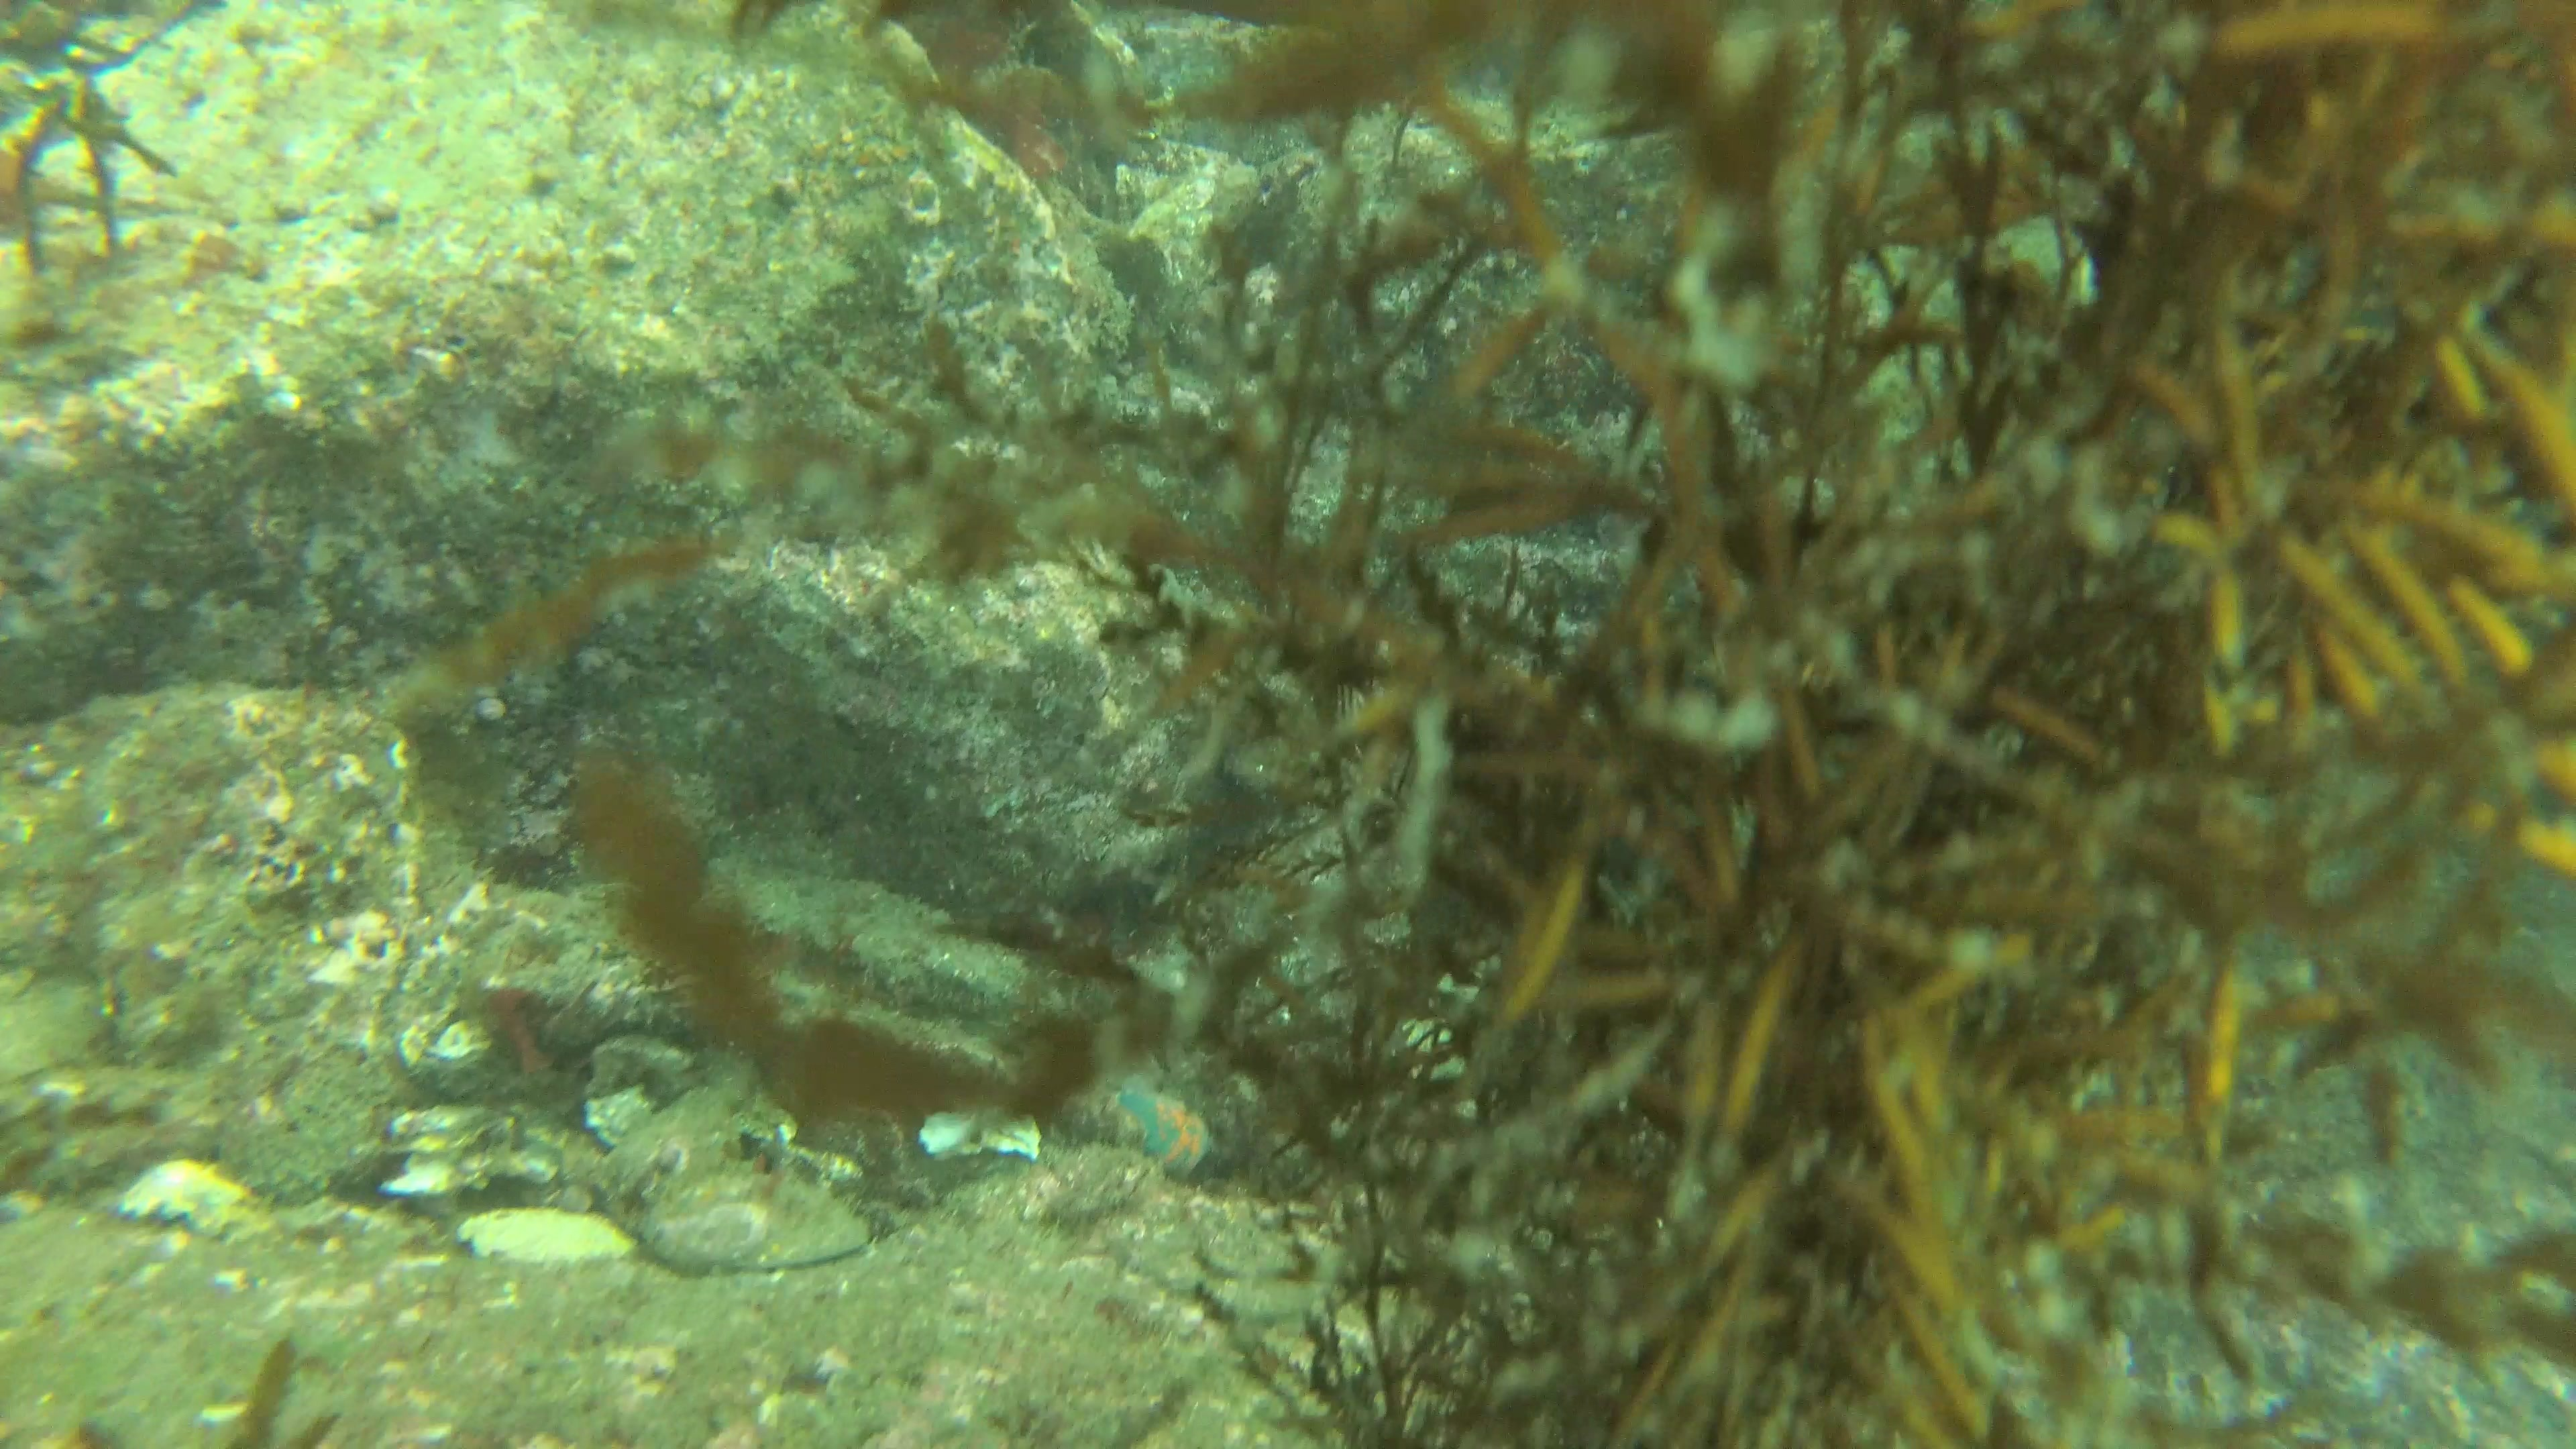starfish: (1113, 1083, 1235, 1180)
